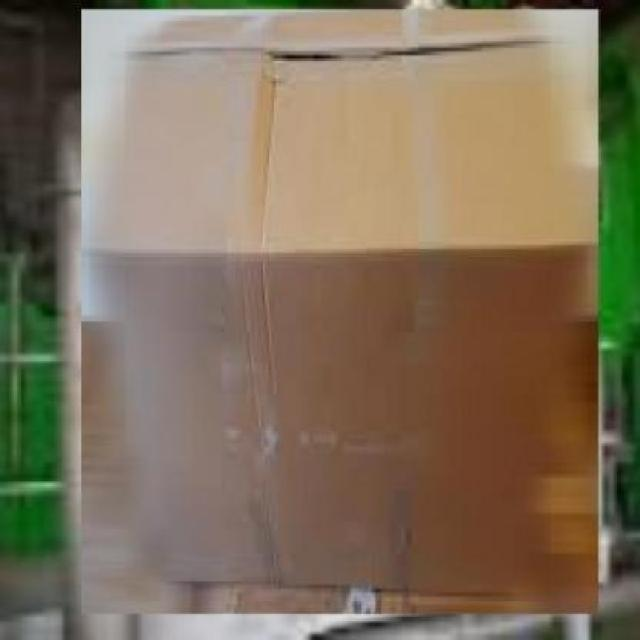box: (73, 0, 607, 625)
